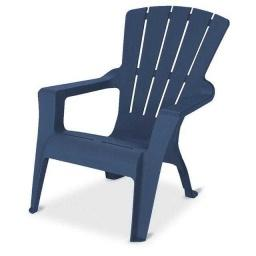Chair: (30, 5, 229, 243)
